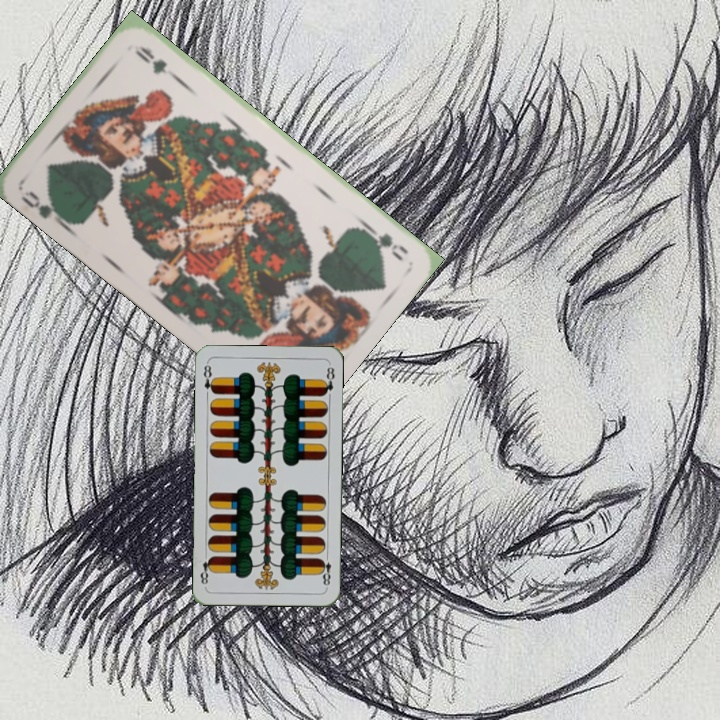E8: (316, 550, 334, 590), (199, 360, 218, 396)
GO: (17, 186, 69, 229), (360, 220, 411, 263)
